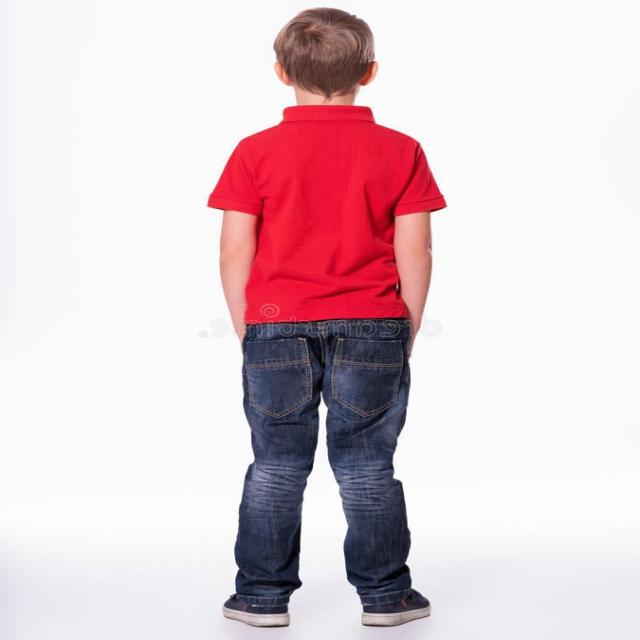child: (213, 9, 444, 629)
